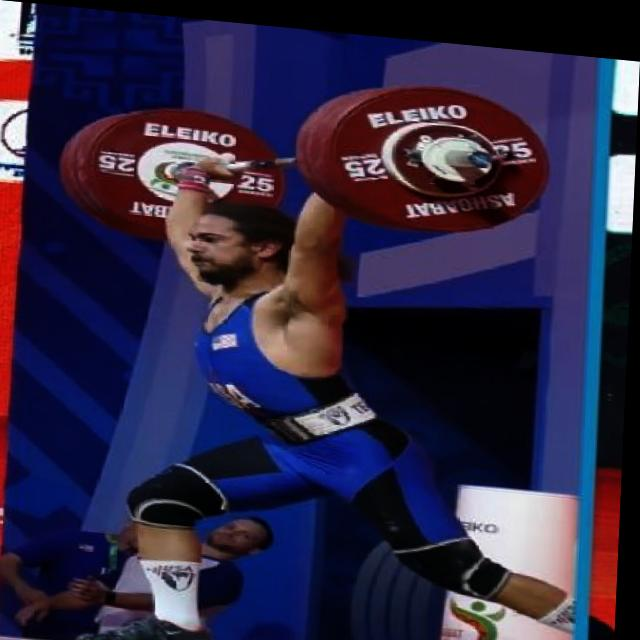barbell: (325, 66, 555, 239)
